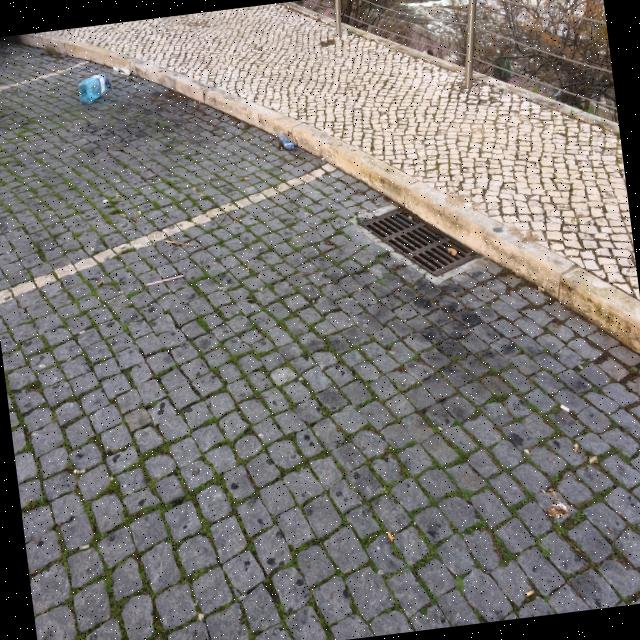Cigarette: (388, 530, 393, 540), (573, 444, 579, 452), (589, 457, 597, 463), (97, 280, 103, 286), (524, 449, 530, 454), (198, 193, 204, 196), (538, 287, 543, 290), (220, 287, 225, 290), (321, 158, 325, 161), (359, 287, 362, 291), (132, 219, 137, 221), (115, 195, 120, 197), (148, 179, 153, 181), (138, 210, 141, 213), (235, 217, 238, 220), (101, 158, 104, 160), (193, 187, 195, 190), (222, 136, 224, 139), (233, 219, 235, 222), (115, 180, 120, 181), (244, 178, 249, 179), (319, 176, 323, 177), (309, 228, 313, 229), (0, 104, 3, 105), (91, 247, 92, 249), (281, 146, 282, 148), (123, 214, 124, 214), (134, 86, 134, 86)
Clear plastic bottle: (80, 75, 110, 102), (278, 133, 295, 150)
